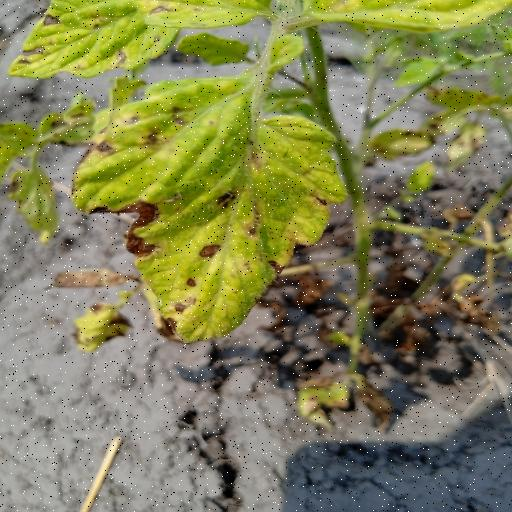Tomato_Brown_Spots: (70, 69, 358, 345)
